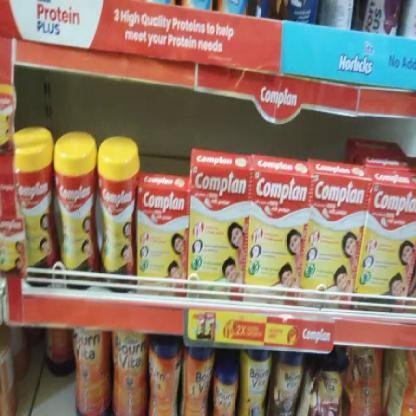Complan Kesar Badam: (189, 162, 246, 300), (248, 170, 304, 305), (306, 178, 362, 308), (139, 184, 189, 297)
Complan Royal Chocolate: (362, 181, 416, 311), (96, 134, 138, 297), (13, 130, 55, 288), (54, 134, 96, 288)
